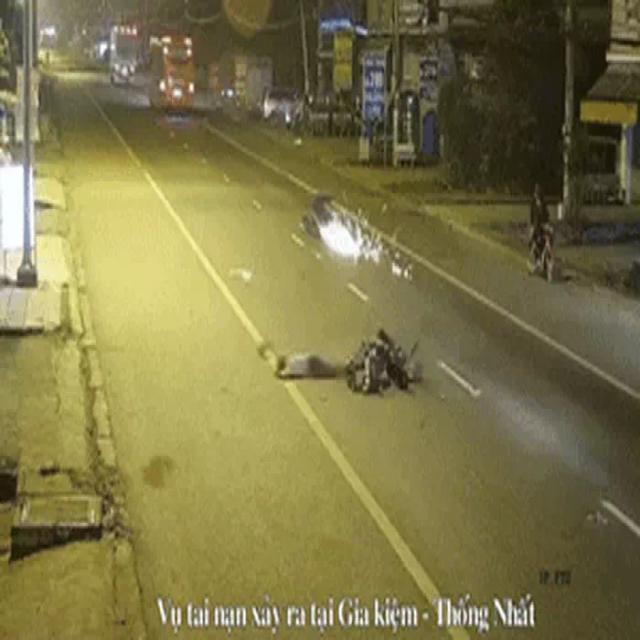multiple_accident: (255, 314, 432, 414), (291, 181, 422, 295)
